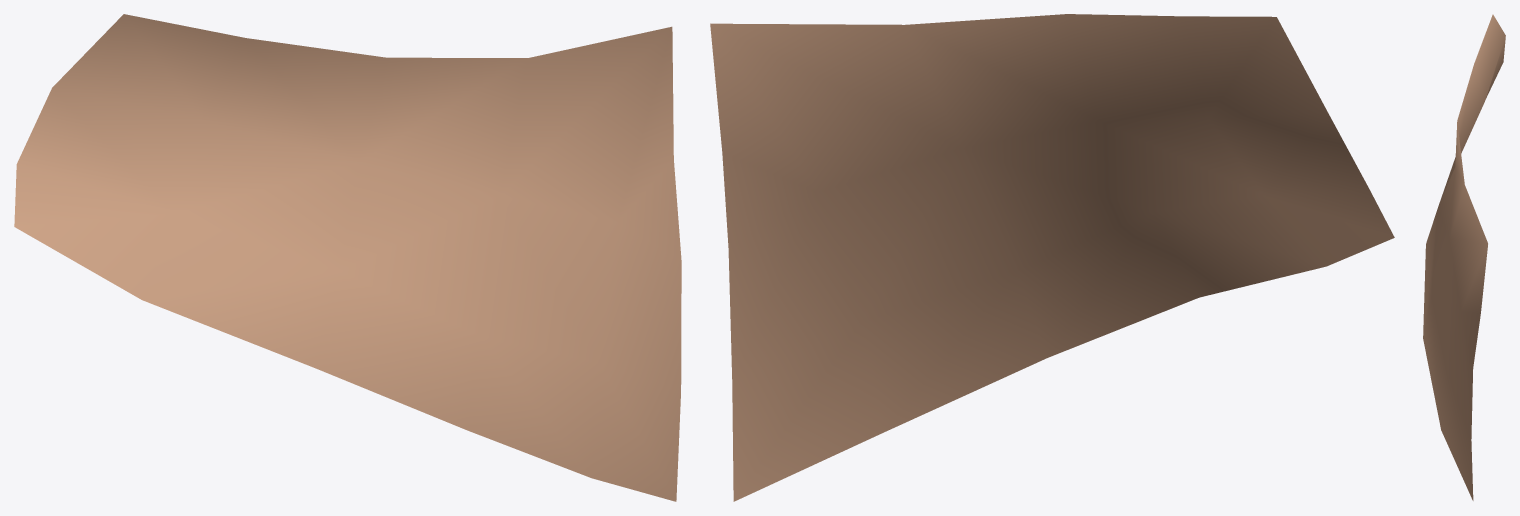
The model's file is inframammary-region-l.glb.
3 renders of one model, left to right at view 1: azimuth 30°, elevation 25°; view 2: azimuth 150°, elevation 25°; view 3: azimuth 270°, elevation 25°, orthographic. The views are drawn at different scales.
Parts seen in each view (by area): view 1: Inframammary region.l; view 2: Inframammary region.l; view 3: Inframammary region.l.
Part boxes in pixels (box(x1,y1,x2,y2)): Inframammary region.l: box(14, 14, 681, 501); Inframammary region.l: box(710, 14, 1394, 501); Inframammary region.l: box(1423, 14, 1505, 500).
Bounding box in the file's own units: 0.0749 × 0.0661 × 0.0146.
